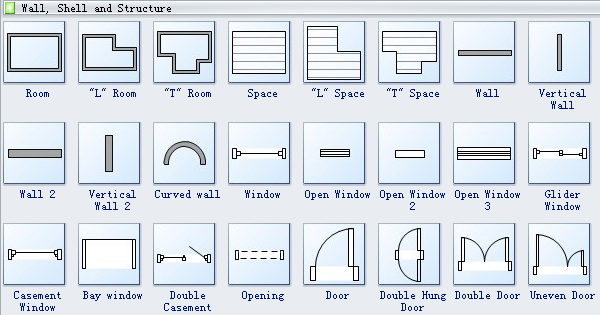wall: (160, 138, 208, 168), (7, 149, 61, 158), (458, 50, 511, 55), (7, 31, 60, 36), (105, 134, 112, 171), (9, 68, 63, 72), (84, 67, 135, 71), (557, 35, 562, 71), (57, 34, 61, 68), (7, 33, 10, 68), (83, 35, 86, 69)
window: (457, 146, 511, 160), (232, 148, 284, 160), (320, 149, 349, 157)
